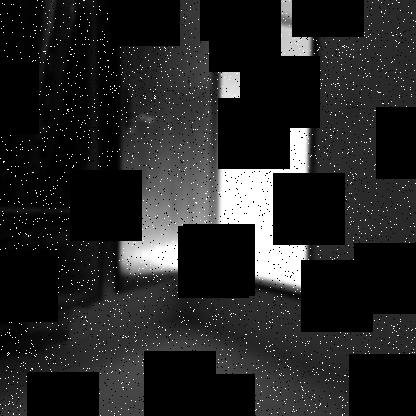Porte: (110, 0, 321, 304)
